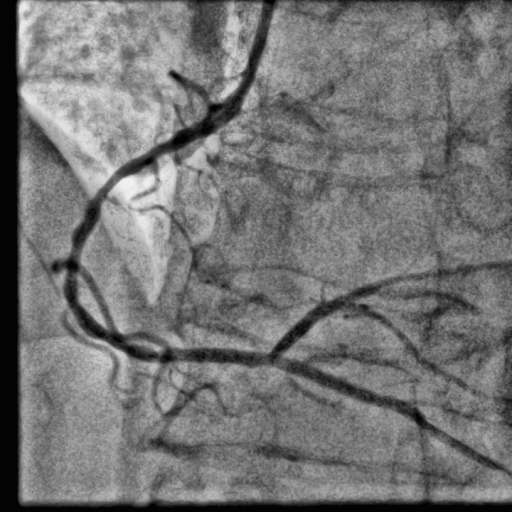pborca: (271, 262, 512, 357)
pda: (269, 358, 510, 476)
rca: (64, 92, 281, 367)
